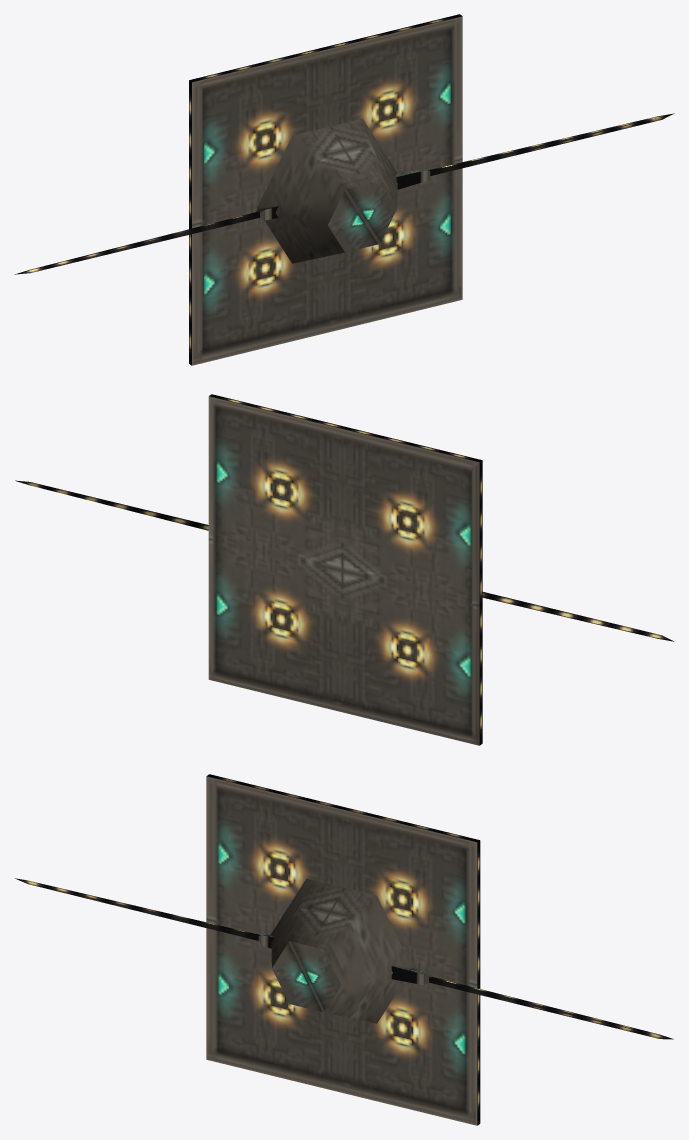
The model's file is giga_flagplat.obj.
3 renders of one model, top to bottom at view 1: azimuth 30°, elevation 25°; view 2: azimuth 150°, elevation 25°; view 3: azimuth 330°, elevation 25°, orthographic.
Parts seen in each view (by area): view 1: frm-fuselg, frm-bmfuselg, frm-rantenn1, frm-rantenn; view 2: frm-fuselg, frm-rantenn, frm-rantenn1; view 3: frm-fuselg, frm-bmfuselg, frm-rantenn1, frm-rantenn.
Boxes of the visible parts, x1=… form: frm-fuselg: x1=189, y1=14, x2=462, y2=365; frm-bmfuselg: x1=257, y1=118, x2=397, y2=263; frm-rantenn1: x1=395, y1=113, x2=674, y2=189; frm-rantenn: x1=14, y1=206, x2=278, y2=274; frm-fuselg: x1=208, y1=394, x2=482, y2=745; frm-rantenn: x1=482, y1=592, x2=673, y2=641; frm-rantenn1: x1=15, y1=480, x2=208, y2=530; frm-fuselg: x1=206, y1=774, x2=480, y2=1125; frm-bmfuselg: x1=271, y1=878, x2=411, y2=1023; frm-rantenn1: x1=391, y1=966, x2=673, y2=1039; frm-rantenn: x1=15, y1=878, x2=274, y2=948.
Size of what is drawn, in the model's own units: 51.75 by 21.21 by 5.63.
